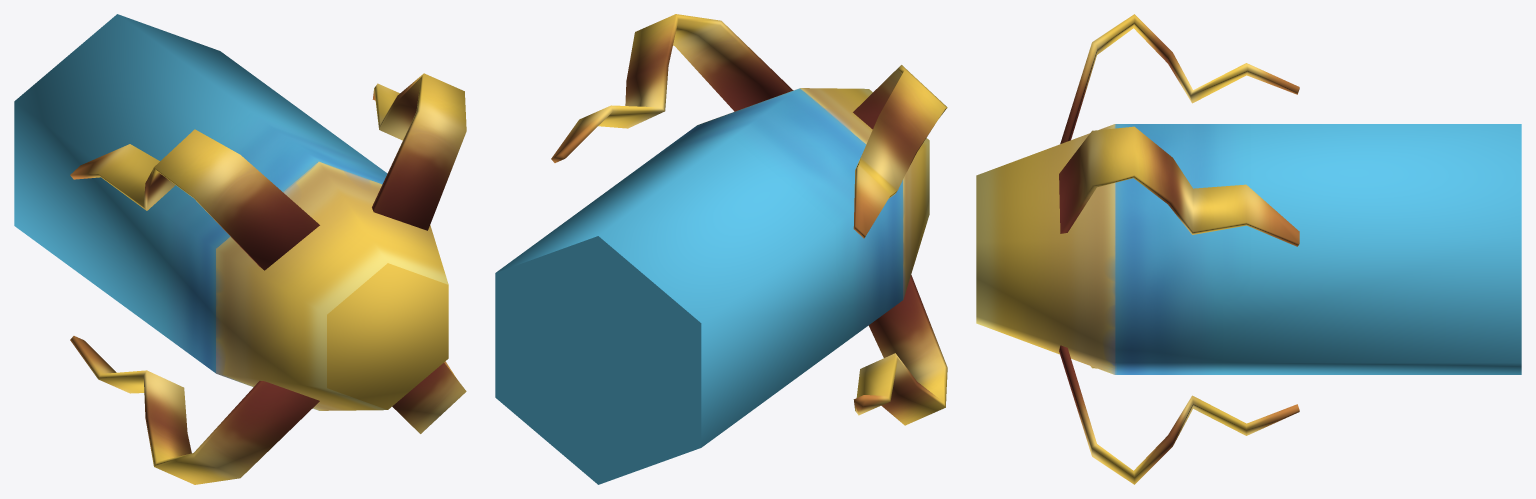
Rendered from univerceBOM.2.fbx.
3 views of the same model, side by side, from view 1: azimuth 30°, elevation 25°; view 2: azimuth 150°, elevation 25°; view 3: azimuth 270°, elevation 25° (orthographic).
Parts seen in each view (by area): view 1: Cylinder, Cylinder.001, Cylinder.002; view 2: Cylinder, Cylinder.001, Cylinder.002; view 3: Cylinder, Cylinder.001, Cylinder.002.
Boxes of the visible parts, box(x1,y1,x2,y2) form: Cylinder: box(14, 14, 448, 410); Cylinder.001: box(70, 73, 466, 270); Cylinder.002: box(70, 336, 466, 484); Cylinder: box(495, 88, 929, 484); Cylinder.001: box(551, 14, 947, 238); Cylinder.002: box(853, 275, 947, 425); Cylinder: box(976, 124, 1521, 374); Cylinder.001: box(1059, 14, 1299, 246); Cylinder.002: box(1059, 345, 1299, 484).
Size of the model in its own units: 265 by 286 by 394.
1 material, 1 textured.
